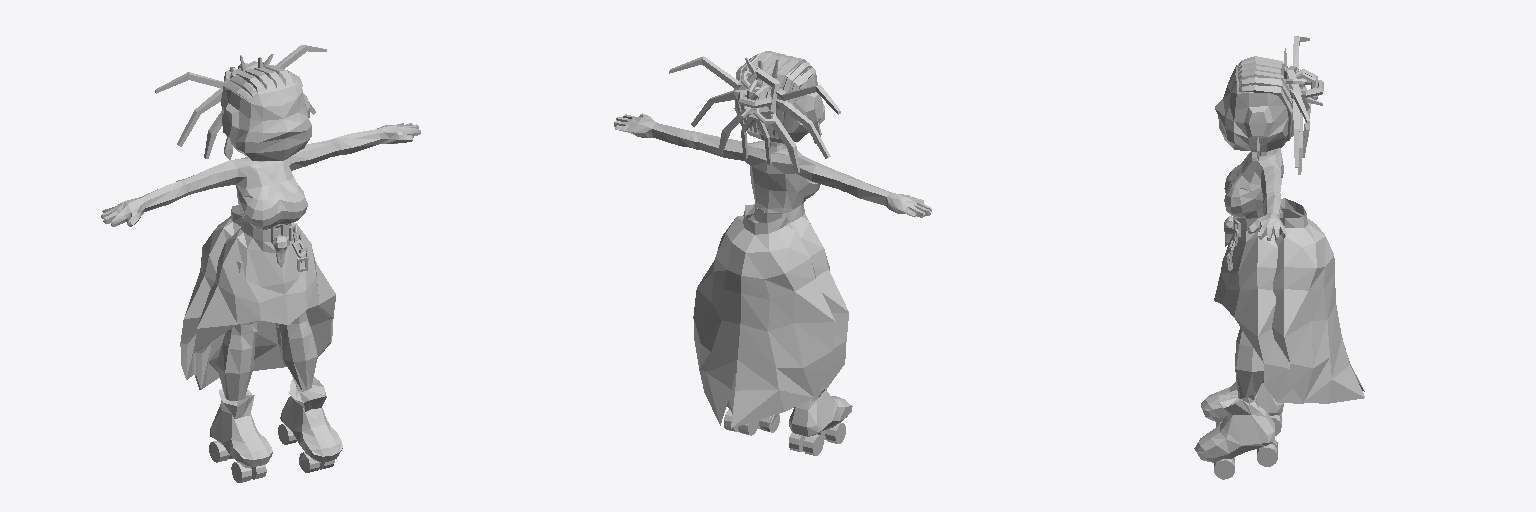
The model's file is WitchFINAL2_000002.obj.
3 views of the same model, side by side, from view 1: azimuth 30°, elevation 25°; view 2: azimuth 150°, elevation 25°; view 3: azimuth 270°, elevation 25° (orthographic).
Visible parts, largest first — view 1: Body_Cylinder, Torso(Boobies)_Cylinder.002, LegR_Cube.004, LegL_Cube.003, Head_Cylinder.004, ZBody_Cylinder.001, Hair_Cylinder.006, Tail.001_Torus.001; view 2: ZBody_Cylinder.001, Torso(Boobies)_Cylinder.002, Body_Cylinder, LegR_Cube.004, Hair_Cylinder.006, Tail.001_Torus.001, Tail_Torus, Tail.002_Torus.002, Head_Cylinder.004, LegL_Cube.003; view 3: ZBody_Cylinder.001, Body_Cylinder, LegL_Cube.003, Torso(Boobies)_Cylinder.002, Head_Cylinder.004, Hair_Cylinder.006, LegR_Cube.004, Tail_Torus, Tail.002_Torus.002.
Boxes of the visible parts, box(x1,y1,x2,y2) form: Body_Cylinder: box(194, 219, 335, 389); Torso(Boobies)_Cylinder.002: box(101, 123, 420, 229); LegR_Cube.004: box(209, 261, 272, 482); LegL_Cube.003: box(278, 311, 342, 472); Head_Cylinder.004: box(221, 67, 311, 160); ZBody_Cylinder.001: box(180, 205, 241, 379); Hair_Cylinder.006: box(221, 65, 302, 109); Tail.001_Torus.001: box(155, 72, 233, 158); ZBody_Cylinder.001: box(693, 204, 835, 428); Torso(Boobies)_Cylinder.002: box(614, 113, 931, 217); Body_Cylinder: box(727, 203, 848, 413); LegR_Cube.004: box(789, 389, 852, 455); Hair_Cylinder.006: box(734, 51, 815, 138); Tail.001_Torus.001: box(754, 84, 840, 173); Tail_Torus: box(738, 57, 780, 123); Tail.002_Torus.002: box(669, 56, 754, 158); Head_Cylinder.004: box(734, 59, 824, 143); LegL_Cube.003: box(724, 404, 779, 435); ZBody_Cylinder.001: box(1272, 198, 1364, 403); Body_Cylinder: box(1214, 212, 1303, 403); LegL_Cube.003: box(1194, 267, 1277, 479); Torso(Boobies)_Cylinder.002: box(1224, 147, 1286, 240); Head_Cylinder.004: box(1215, 64, 1290, 151); Hair_Cylinder.006: box(1238, 56, 1293, 140); LegR_Cube.004: box(1201, 380, 1283, 435); Tail_Torus: box(1281, 48, 1323, 110); Tail.002_Torus.002: box(1290, 89, 1310, 174).
Bounding box in the file's own units: 13.75 × 16.8 × 6.49.